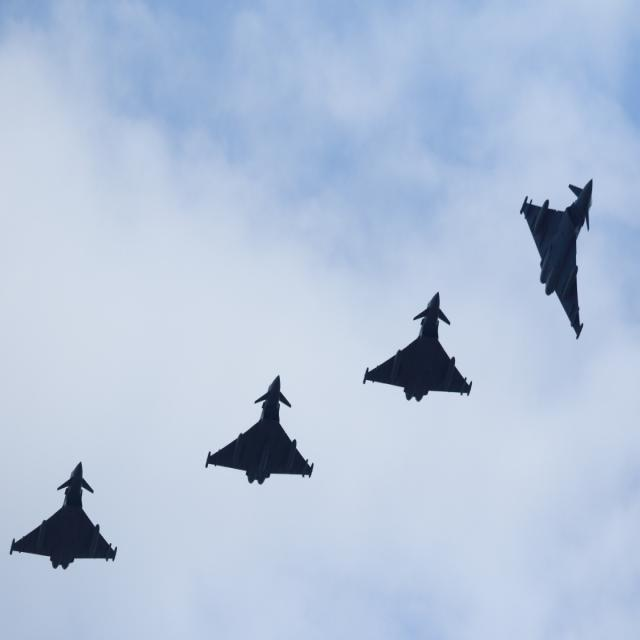MIL_Plane: (204, 375, 315, 485), (362, 292, 472, 402), (520, 178, 593, 340), (10, 460, 117, 570)
